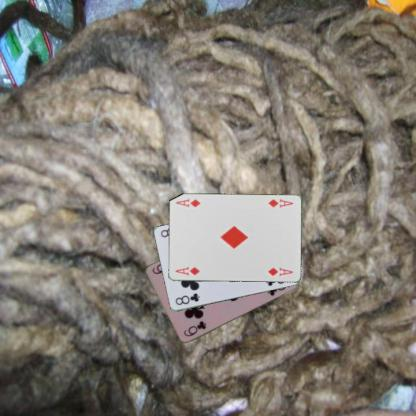6c: (181, 318, 208, 338)
8c: (173, 290, 201, 306)
Ad: (173, 264, 200, 277), (266, 197, 294, 209)
